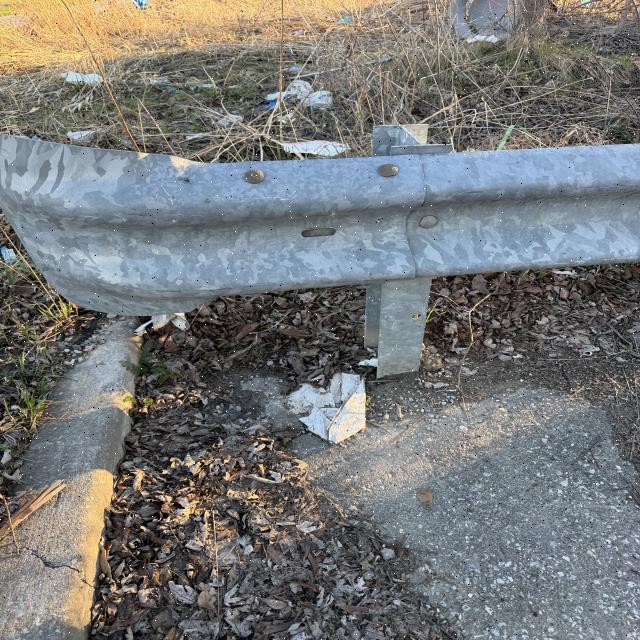Guard rail: (20, 144, 629, 296)
